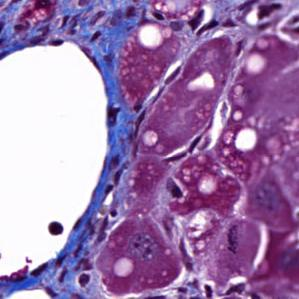inflammation: (196, 277, 246, 299), (246, 5, 287, 26), (182, 3, 211, 32)
